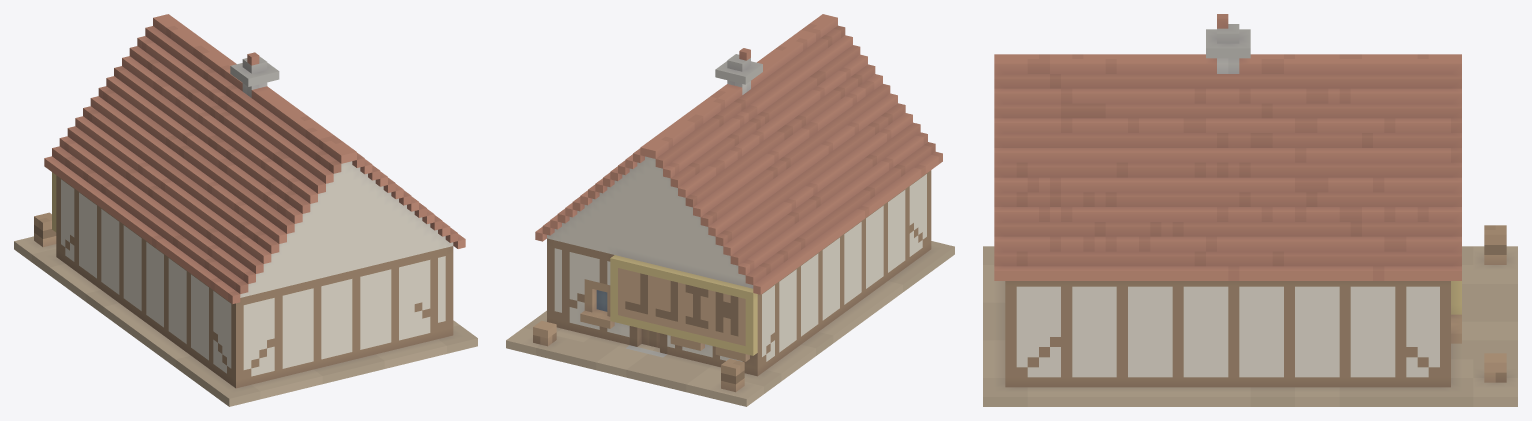
Rendered from mill.glb.
3 views of the same model, side by side, from view 1: azimuth 30°, elevation 25°; view 2: azimuth 150°, elevation 25°; view 3: azimuth 270°, elevation 25° (orthographic). The views are drawn at different scales.
Parts seen in each view (by area): view 1: mill; view 2: mill; view 3: mill.
Boxes of the visible parts, left/top/right/bottom form: mill: left=14, top=14, right=477, bottom=406; mill: left=506, top=14, right=954, bottom=406; mill: left=983, top=14, right=1517, bottom=406.
Size of the model in its own units: 4 by 3.88 by 6.
